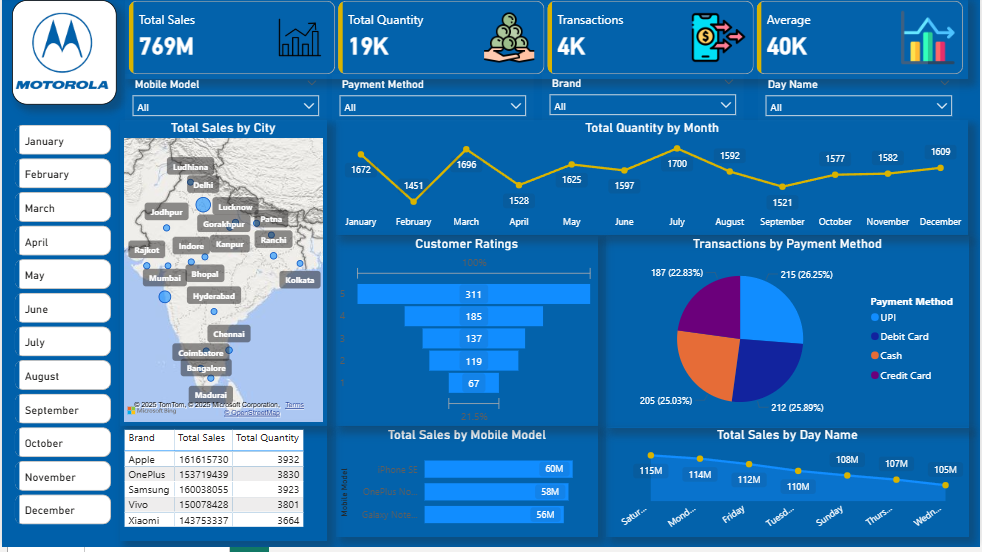

The page's visual inventory and layout, read from the dashboard file:
{"tool":"powerbi","page":{"name":"Duplicate of Page 1","canvas":[1280,720],"ordinal":1},"visuals":[{"type":"shape","box":[13,4.3,136.8,136.8],"z":0},{"type":"image","box":[13,0,131,141.1],"z":1000},{"type":"advancedSlicerVisual","fields":{"Values":["Sales_Data.Date.Variation.Date Hierarchy.Month"]},"box":[12.4,162.4,136.3,543.7],"z":3000},{"type":"cardVisual","fields":{"Data":["Sales_Data.Total Sales","Sales_Data.Total Quantity","Sales_Data.Transactions","Sales_Data.Average"]},"box":[161.3,0,1104.5,106.6],"z":4000},{"type":"map","fields":{"Category":["Sales_Data.City"],"Size":["Sales_Data.Total Sales"]},"box":[154.1,161.3,270.7,400.3],"z":5000},{"type":"lineChart","fields":{"Category":["Sales_Data.Date.Variation.Date Hierarchy.Month","Sales_Data.Date.Variation.Date Hierarchy.Day"],"Y":["Sales_Data.Total Quantity"]},"box":[437.8,161.3,828,151.2],"z":6000},{"type":"clusteredBarChart","fields":{"Category":["Sales_Data.Mobile Model"],"Y":["Sales_Data.Total Sales"]},"box":[437.8,563,342.7,144],"z":7000},{"type":"pieChart","fields":{"Category":["Sales_Data.Payment Method"],"Y":["Sales_Data.Transactions"]},"box":[790.6,312.5,475.2,250.6],"z":8000},{"type":"funnel","title":"Customer Ratings","fields":{"Category":["Sales_Data.Customer Ratings"],"Y":["CountNonNull(Sales_Data.Customer Ratings)"]},"box":[437.8,312.5,342.7,249.1],"z":9000},{"type":"areaChart","fields":{"Category":["Sales_Data.Day Name"],"Y":["Sales_Data.Total Sales"]},"box":[790.6,563,475.2,144],"z":10000},{"type":"tableEx","fields":{"Values":["Sales_Data.Brand","Sales_Data.Total Sales","Sales_Data.Total Quantity"]},"box":[154.1,561.6,270.7,149.8],"z":11000},{"type":"slicer","fields":{"Values":["Sales_Data.Mobile Model"]},"box":[161.3,100.8,263.5,61.9],"z":12000},{"type":"slicer","fields":{"Values":["Sales_Data.Payment Method"]},"box":[432,100.8,263.5,61.9],"z":13000},{"type":"slicer","fields":{"Values":["Sales_Data.Brand"]},"box":[707,99.4,263.5,61.9],"z":14000},{"type":"slicer","fields":{"Values":["Sales_Data.Day Name"]},"box":[989.3,100.8,263.5,61.9],"z":15000}]}

Visuals, with their boxes in screenshot pixels (x1, y1, x2, y2), scaled from the page's 1280x720 canvas onto the 982x552 screenshot:
shape: select_region(10, 3, 115, 108)
image: select_region(10, 0, 110, 108)
advancedSlicerVisual - Sales_Data.Date.Variation.Date Hierarchy.Month: select_region(10, 125, 114, 541)
cardVisual - Sales_Data.Total Sales x Sales_Data.Total Quantity: select_region(124, 0, 971, 82)
map - Sales_Data.City x Sales_Data.Total Sales: select_region(118, 124, 326, 431)
lineChart - Sales_Data.Date.Variation.Date Hierarchy.Month x Sales_Data.Date.Variation.Date Hierarchy.Day: select_region(336, 124, 971, 240)
clusteredBarChart - Sales_Data.Mobile Model x Sales_Data.Total Sales: select_region(336, 432, 599, 542)
pieChart - Sales_Data.Payment Method x Sales_Data.Transactions: select_region(607, 240, 971, 432)
"Customer Ratings" funnel: select_region(336, 240, 599, 431)
areaChart - Sales_Data.Day Name x Sales_Data.Total Sales: select_region(607, 432, 971, 542)
tableEx - Sales_Data.Brand x Sales_Data.Total Sales: select_region(118, 431, 326, 545)
slicer - Sales_Data.Mobile Model: select_region(124, 77, 326, 125)
slicer - Sales_Data.Payment Method: select_region(331, 77, 534, 125)
slicer - Sales_Data.Brand: select_region(542, 76, 745, 124)
slicer - Sales_Data.Day Name: select_region(759, 77, 961, 125)
